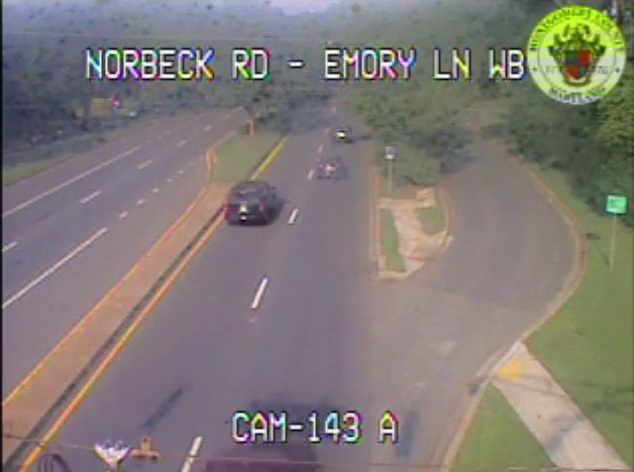car: (224, 181, 275, 223)
